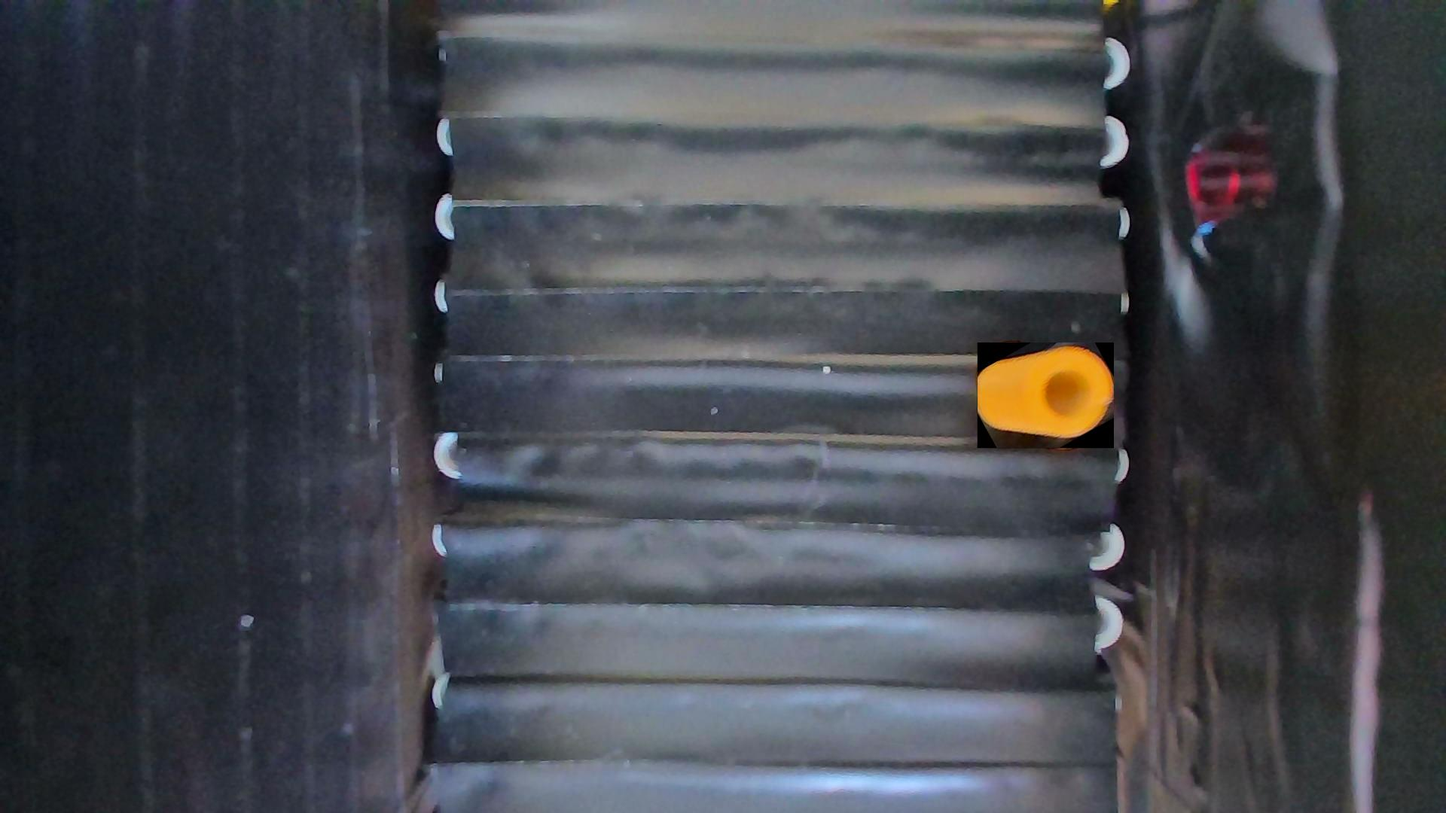spring: (976, 343, 1113, 449)
